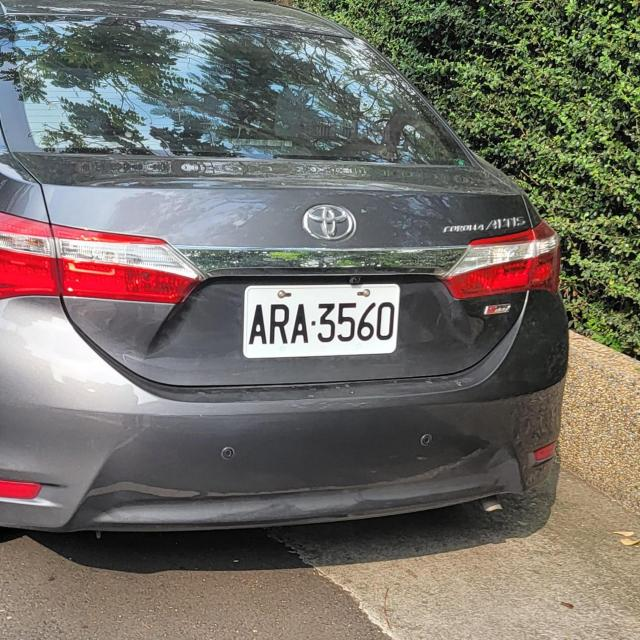W: (242, 282, 404, 360)
